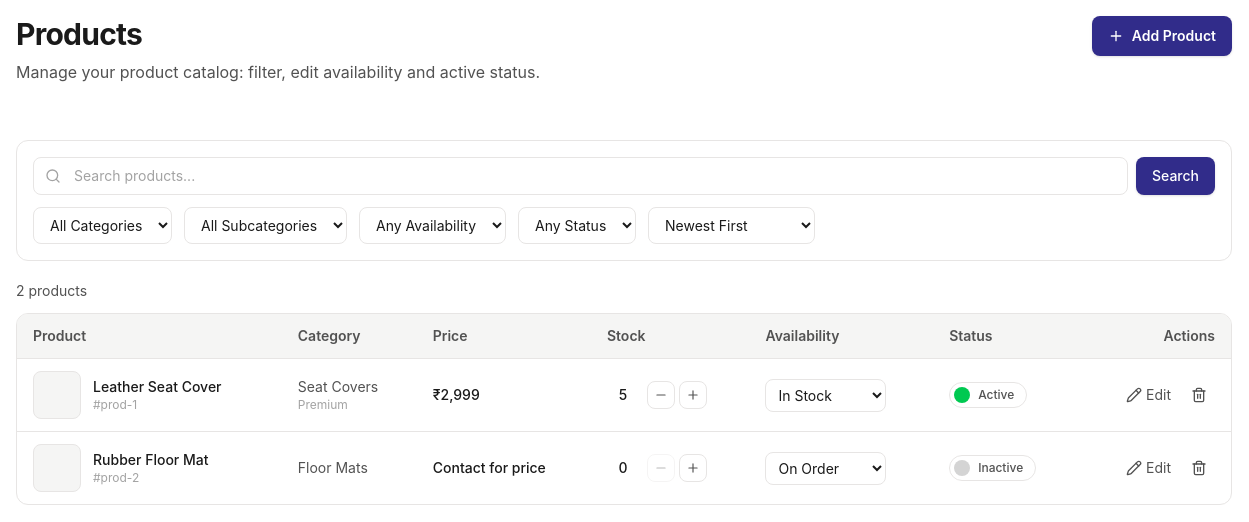
Scenario: ProductsAdminPage › decrements stock via PATCH and updates the row
Expected: the text "Leather Seat Cover" is shown, top-left (93, 377), bottom-right (222, 397)
Click the button named "Decrease stock for Leather Seat Cover" at x=661, y=395, box top-left (647, 381), bottom-right (675, 409)
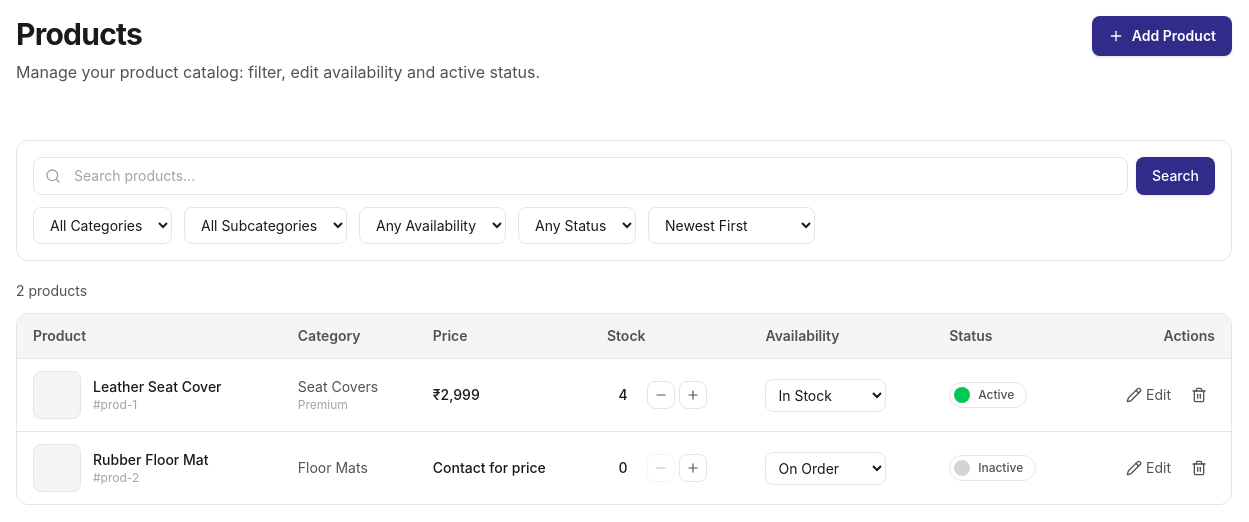
Expected: the text named "Stock quantity for Leather Seat Cover" reads "4", top-left (618, 386), bottom-right (628, 403)
